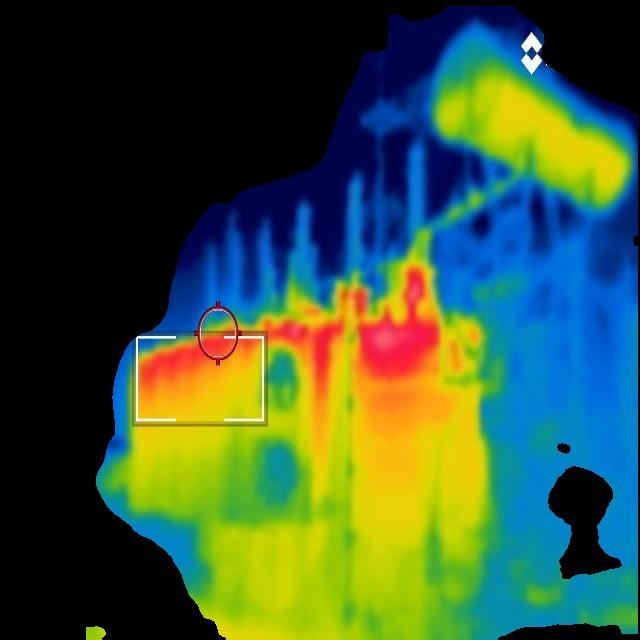Transformer Overload: (131, 264, 495, 542)
